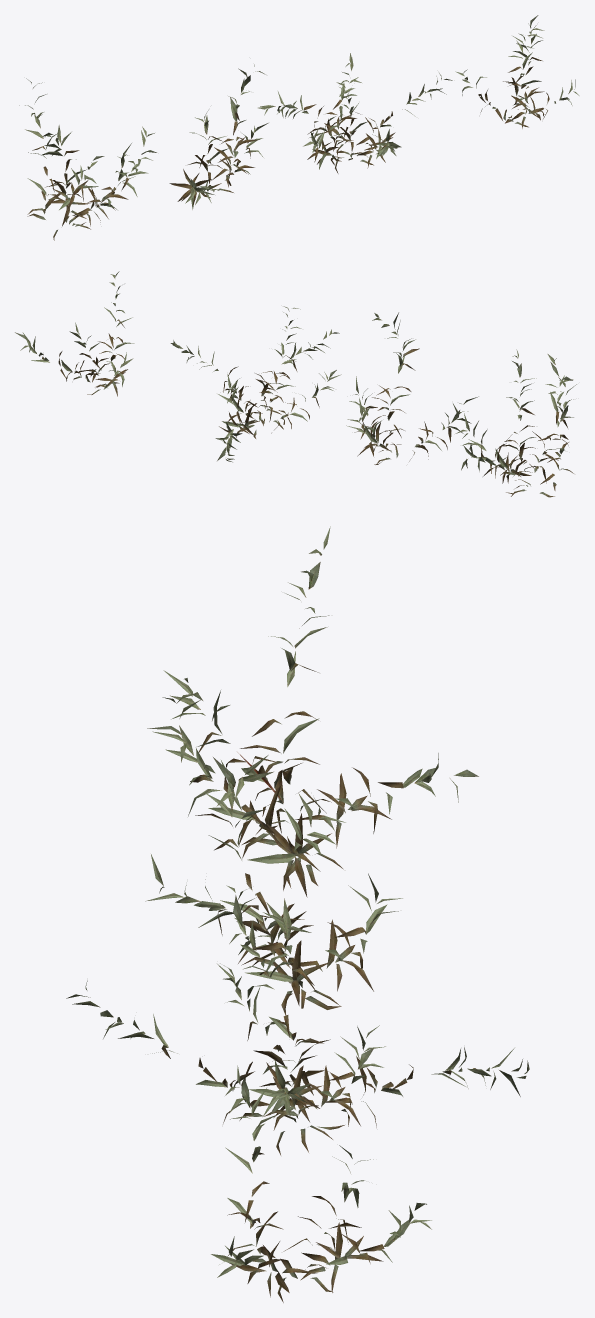
The model's file is shrub_02.glb.
3 renders of one model, top to bottom at view 1: azimuth 30°, elevation 25°; view 2: azimuth 150°, elevation 25°; view 3: azimuth 270°, elevation 25°, orthographic. The views are drawn at different scales.
Parts seen in each view (by area): view 1: shrub_02_a; view 2: shrub_02_a; view 3: shrub_02_a.
Part boxes in pixels (<box>): shrub_02_a: <box>19,15,579,240</box>; shrub_02_a: <box>15,271,576,497</box>; shrub_02_a: <box>66,526,529,1302</box>.
Size of the model in its own units: 6.05 by 1.7 by 2.28.
1 material, 1 textured.
